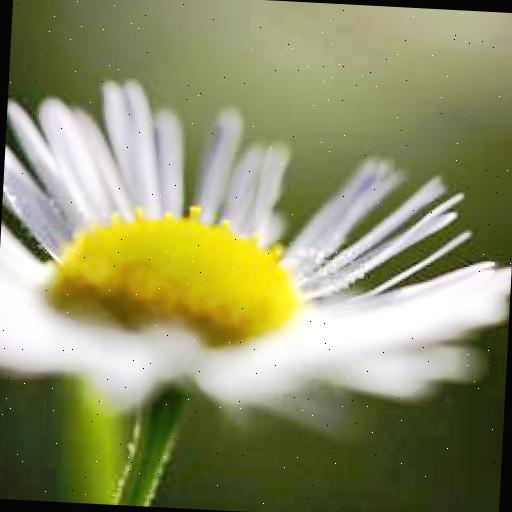tulip: (0, 51, 512, 512)
